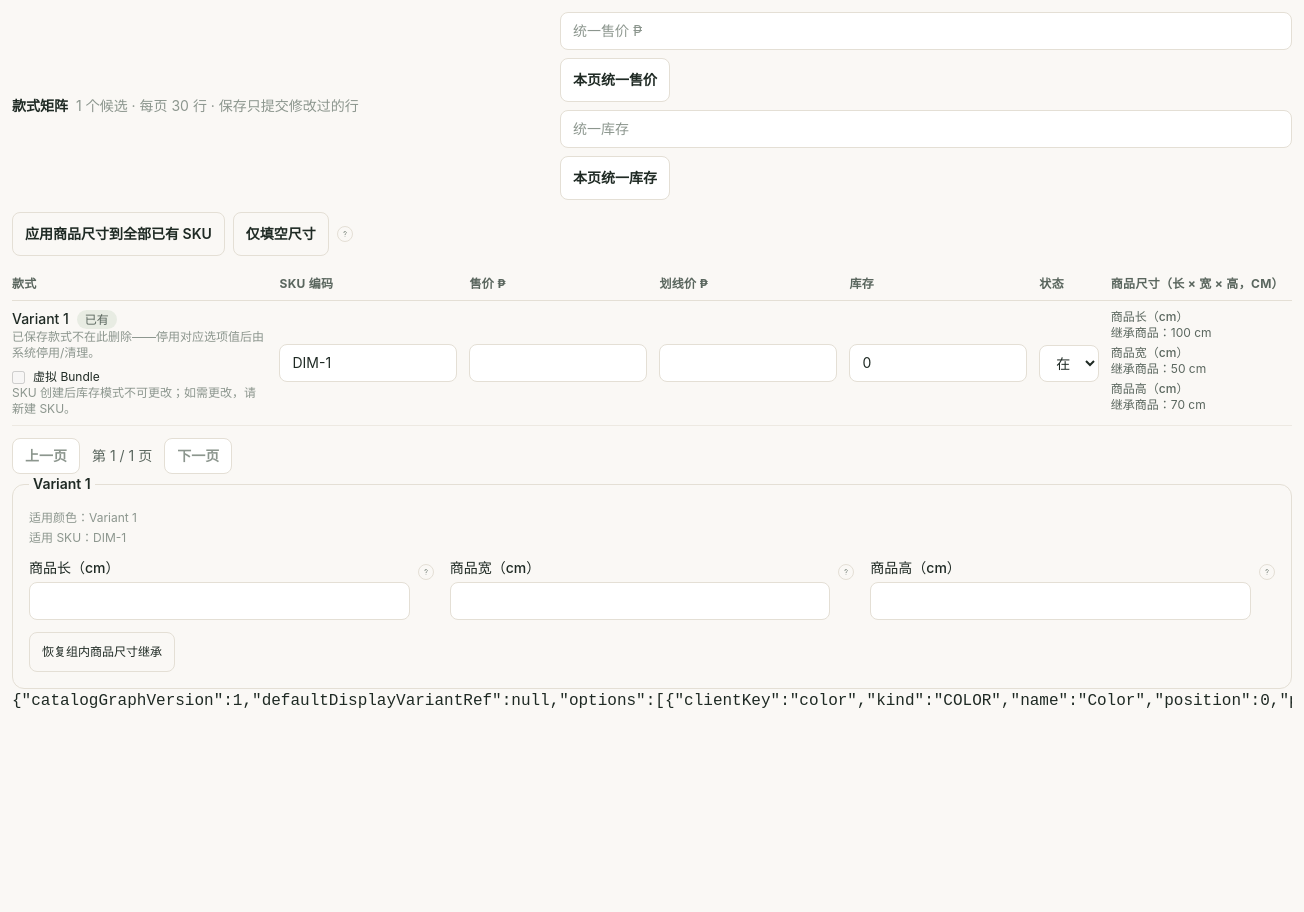
Scenario: VariantMatrix › SKU product dimension editing › edits only dimension overrides and clearing one input restores only that axis
Type "120" into the field named "Variant 1 的商品长（cm）" at [219, 601], box x1=29 y1=582 x2=410 y2=620
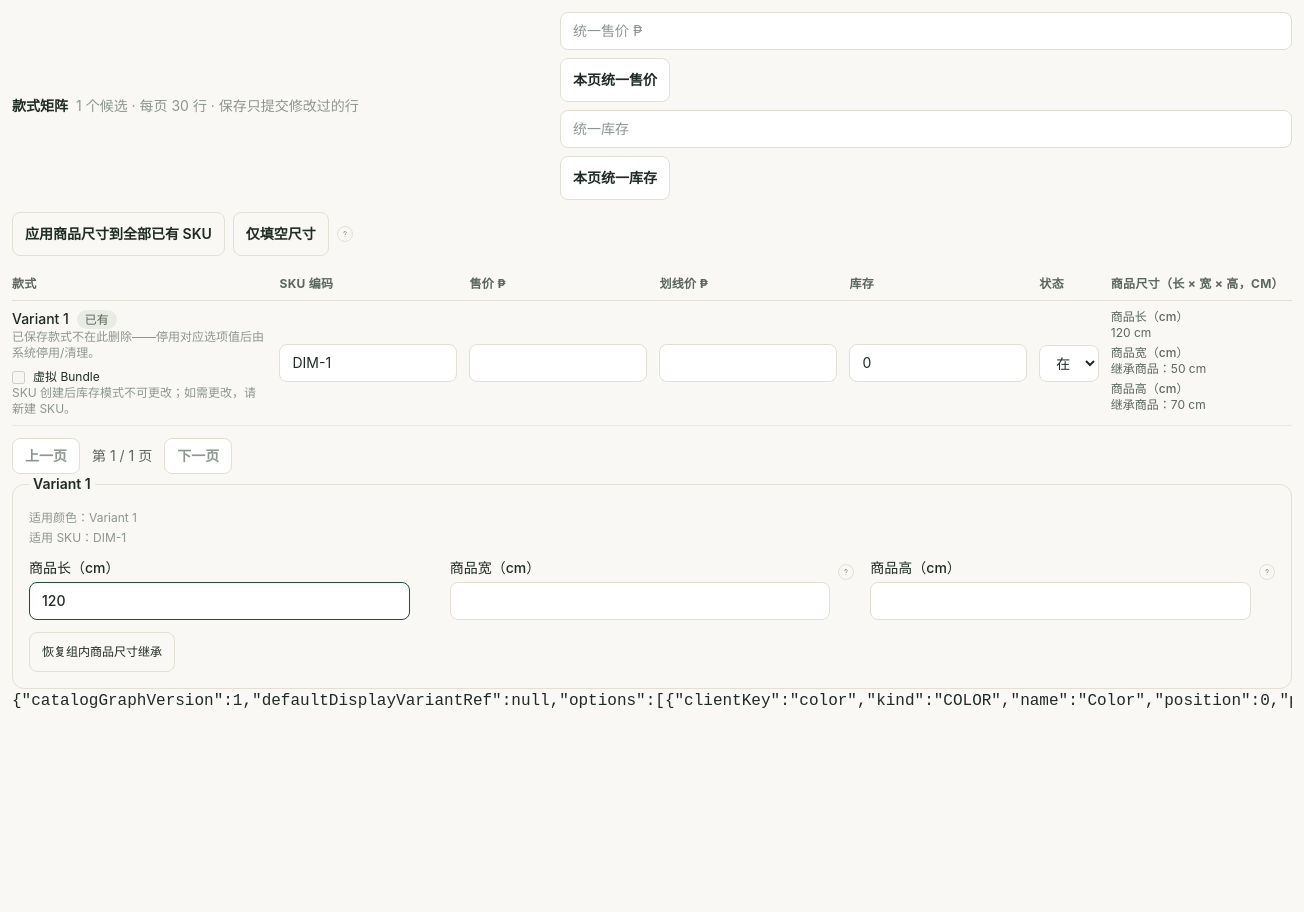
Type "60" into the field named "Variant 1 的商品宽（cm）" at [640, 601], box x1=450 y1=582 x2=830 y2=620
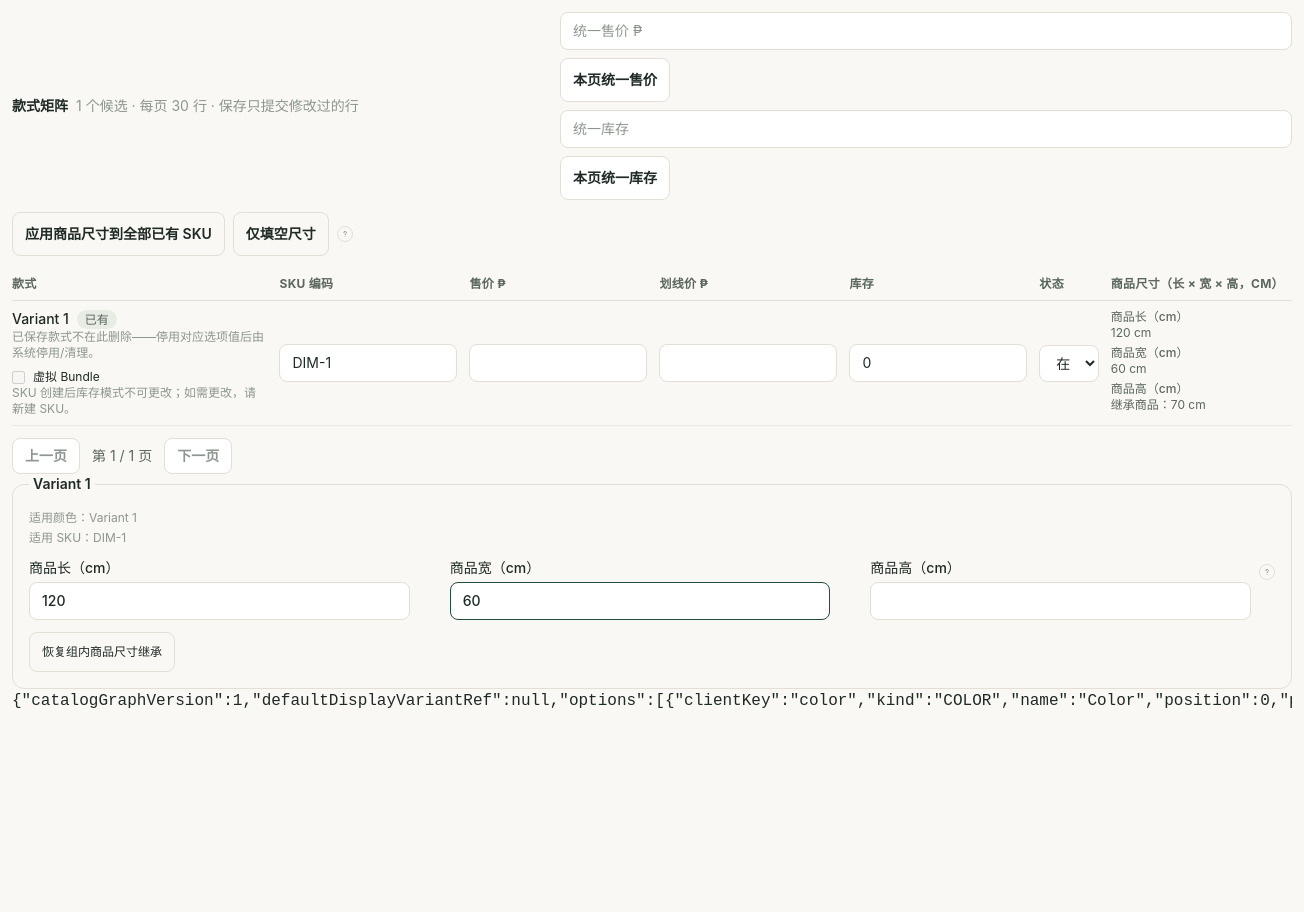
Type "75" into the field named "Variant 1 的商品高（cm）" at [1061, 601], box x1=870 y1=582 x2=1251 y2=620
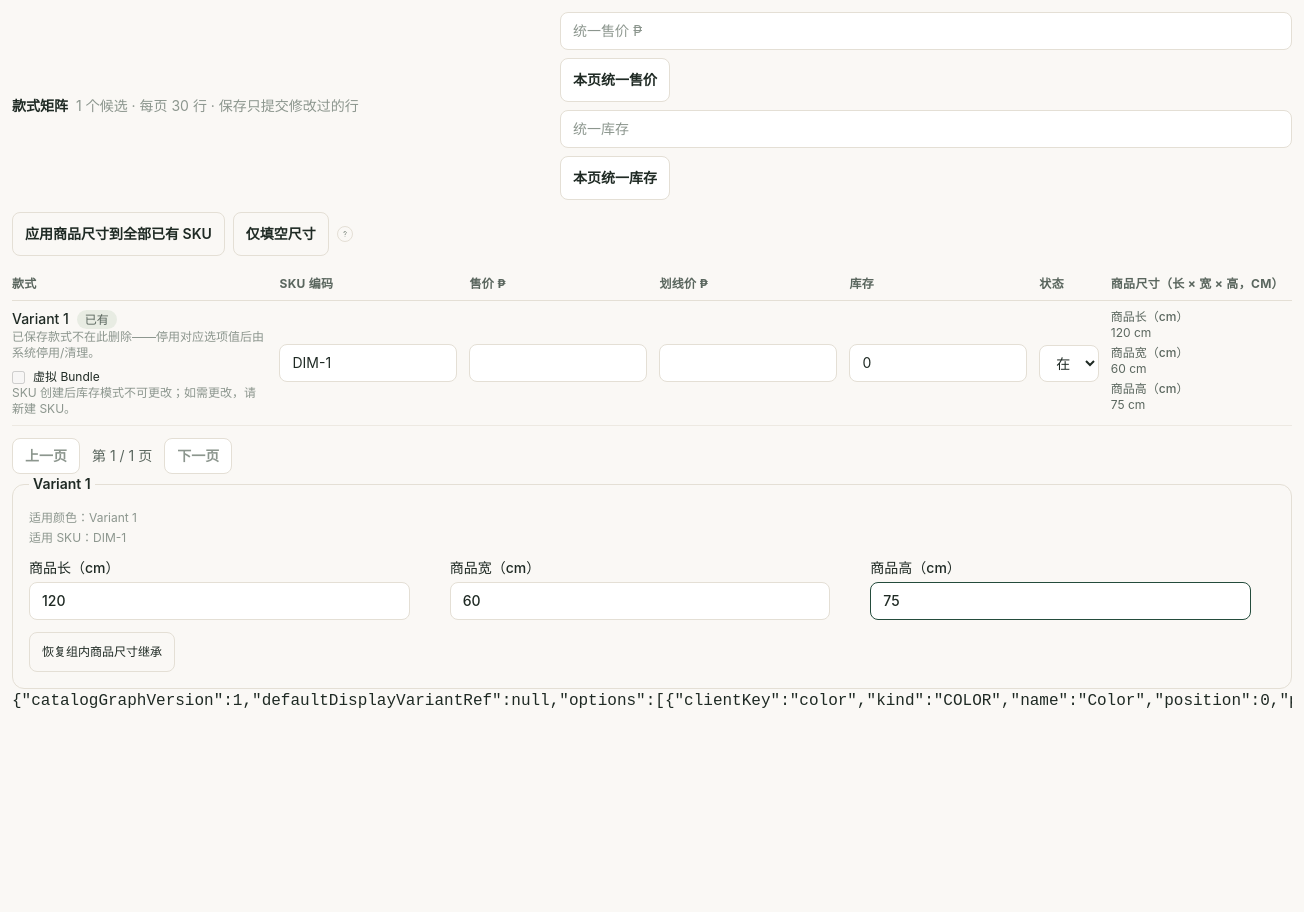
Result: the text "75 cm" is shown at x1=1111 y1=397 x2=1145 y2=412
Clear the field named "Variant 1 的商品长（cm）" at [219, 601], box x1=29 y1=582 x2=410 y2=620
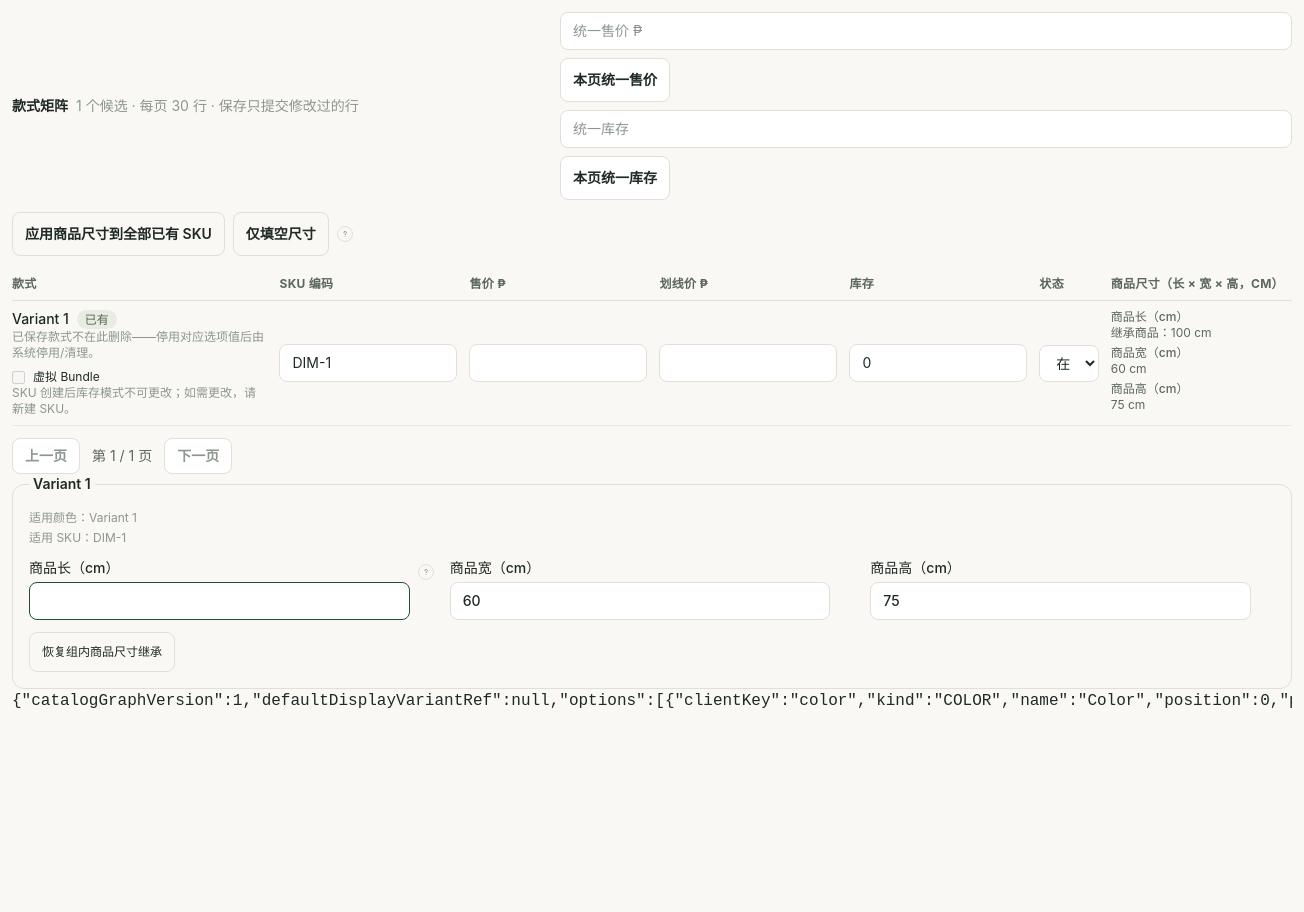
Result: the text "继承商品：100 cm" is shown at x1=1111 y1=325 x2=1212 y2=340
